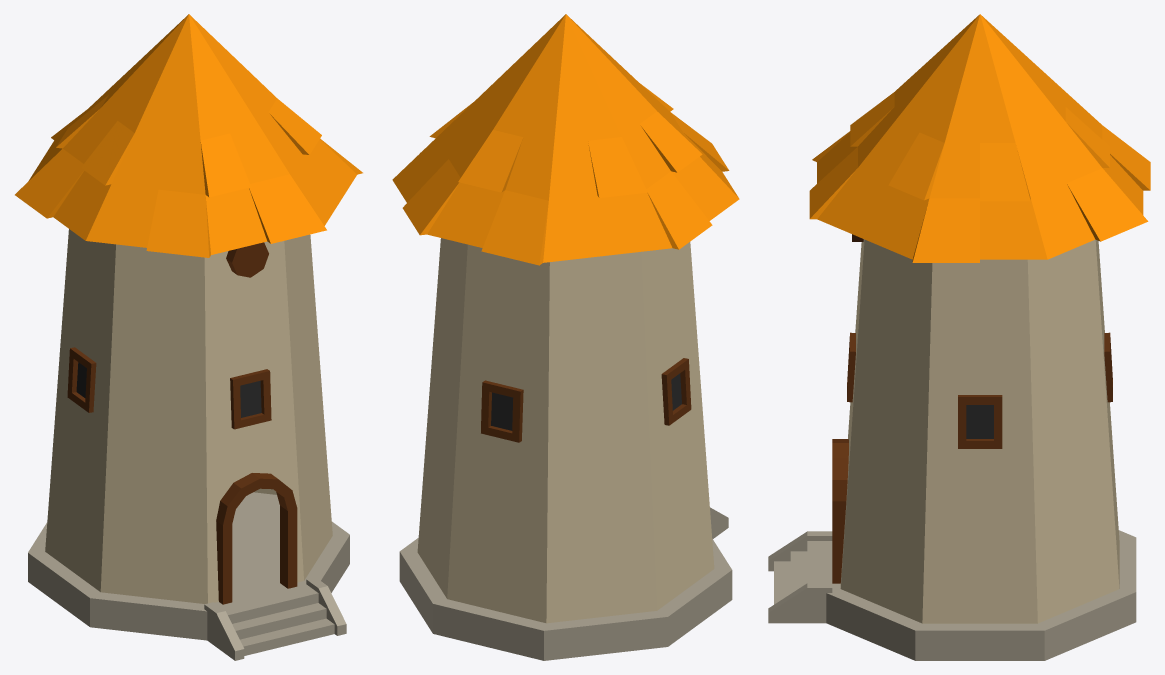
File: Windmill_01.fbx
3 views of the same model, side by side, from view 1: azimuth 30°, elevation 25°; view 2: azimuth 150°, elevation 25°; view 3: azimuth 270°, elevation 25° (orthographic). The views are drawn at different scales.
Parts seen in each view (by area): view 1: Windmill_01; view 2: Windmill_01; view 3: Windmill_01.
Boxes of the visible parts, <box> form: Windmill_01: <box>15,14,362,660</box>; Windmill_01: <box>392,14,739,660</box>; Windmill_01: <box>768,14,1150,660</box>.
Size of the model in its own units: 612 by 1150 by 686.
1 material, 1 textured.
